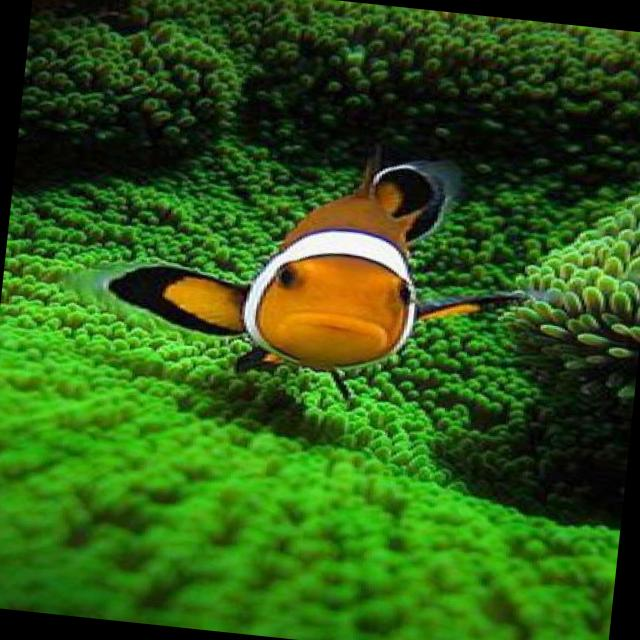ClownFish: (106, 140, 488, 393)
